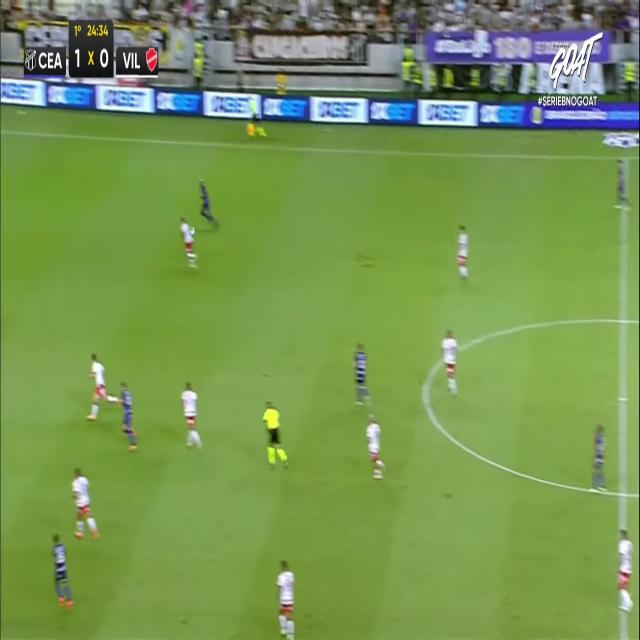ball: (189, 226, 195, 236)
player: (87, 352, 119, 420), (72, 466, 99, 539), (52, 532, 74, 608), (115, 381, 137, 449), (276, 559, 294, 639), (617, 527, 634, 611), (182, 380, 202, 447), (366, 413, 384, 480), (353, 341, 371, 404), (441, 328, 458, 394), (198, 177, 218, 231), (591, 422, 606, 492), (179, 215, 198, 269), (457, 224, 468, 279)
referee: (262, 399, 288, 467), (246, 88, 268, 142)
